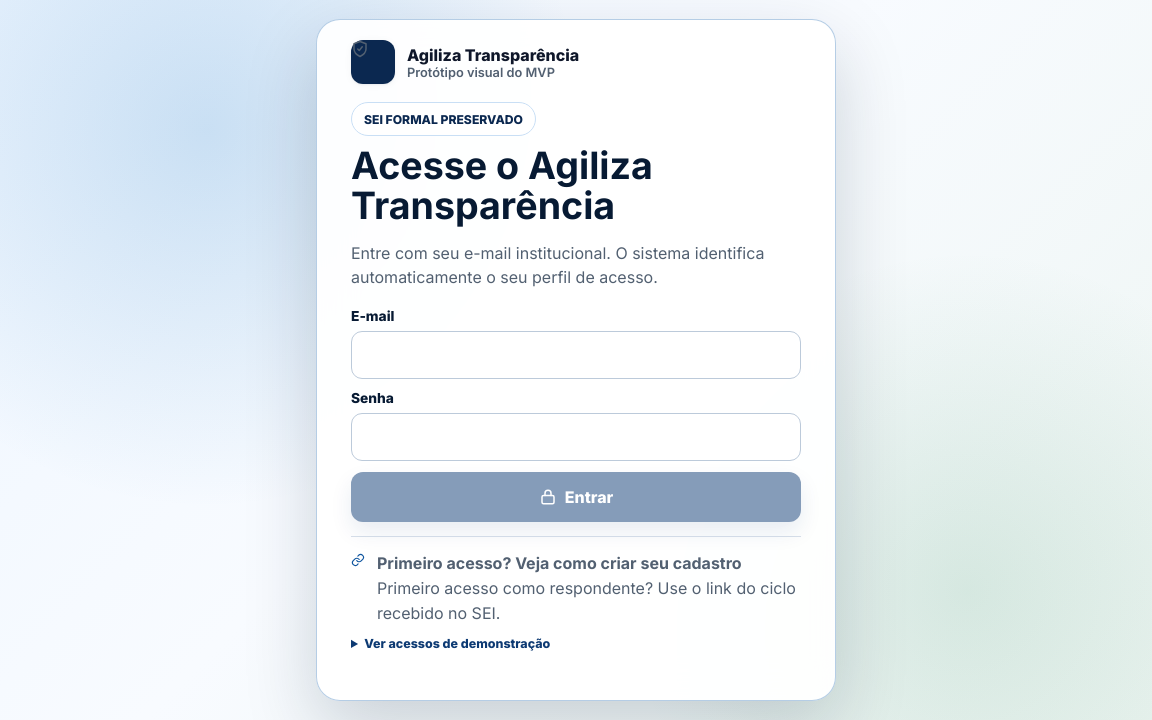
Test: Agiliza Transparência › analista recebe somente Criar Ciclo e Acompanhar ciclos na home
Type "analista@stc.ma.gov.br" into the field labelled "E-mail" at [576, 355], box [351,331,801,379]
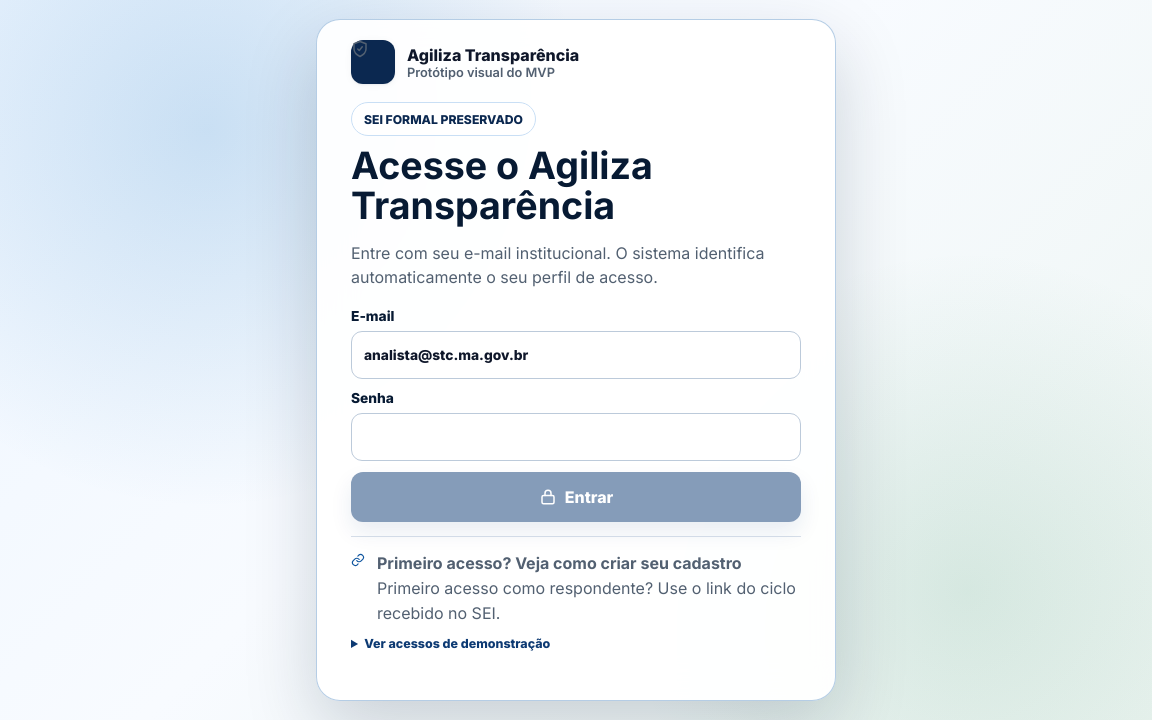
Type "senha-simulada" into the password field labelled "Senha" at [576, 437], box [351,413,801,461]
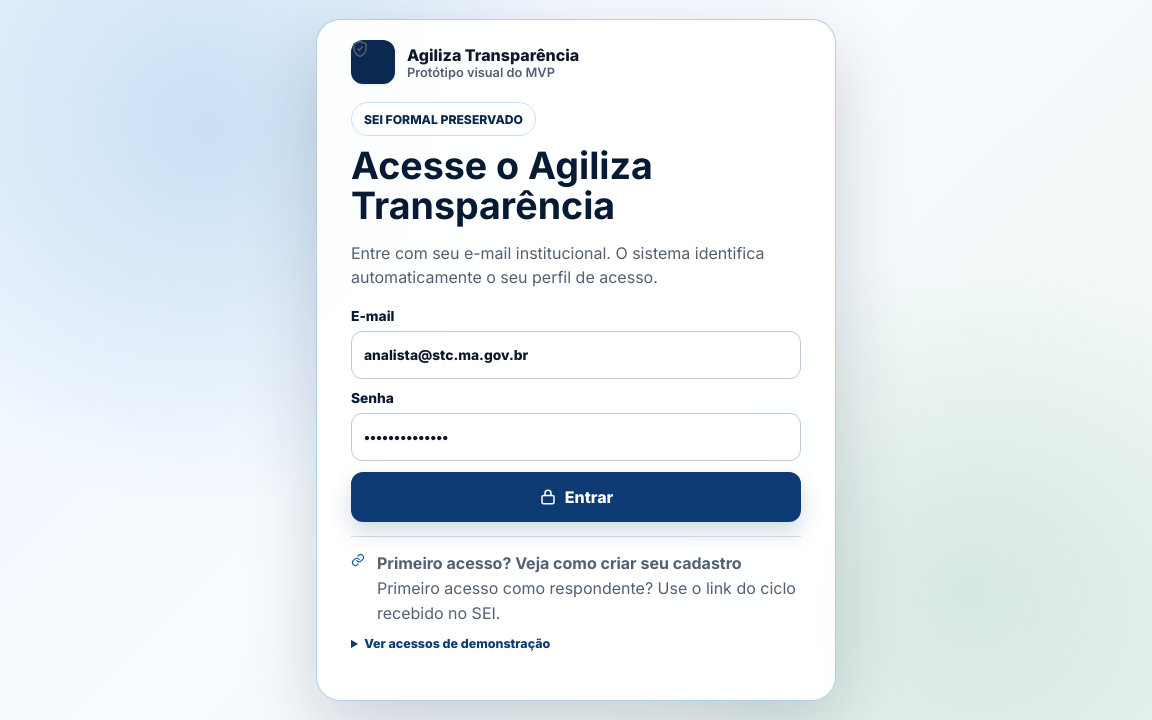
Click the button "Entrar" at [576, 497], box [351,472,801,522]
(page scrolled)
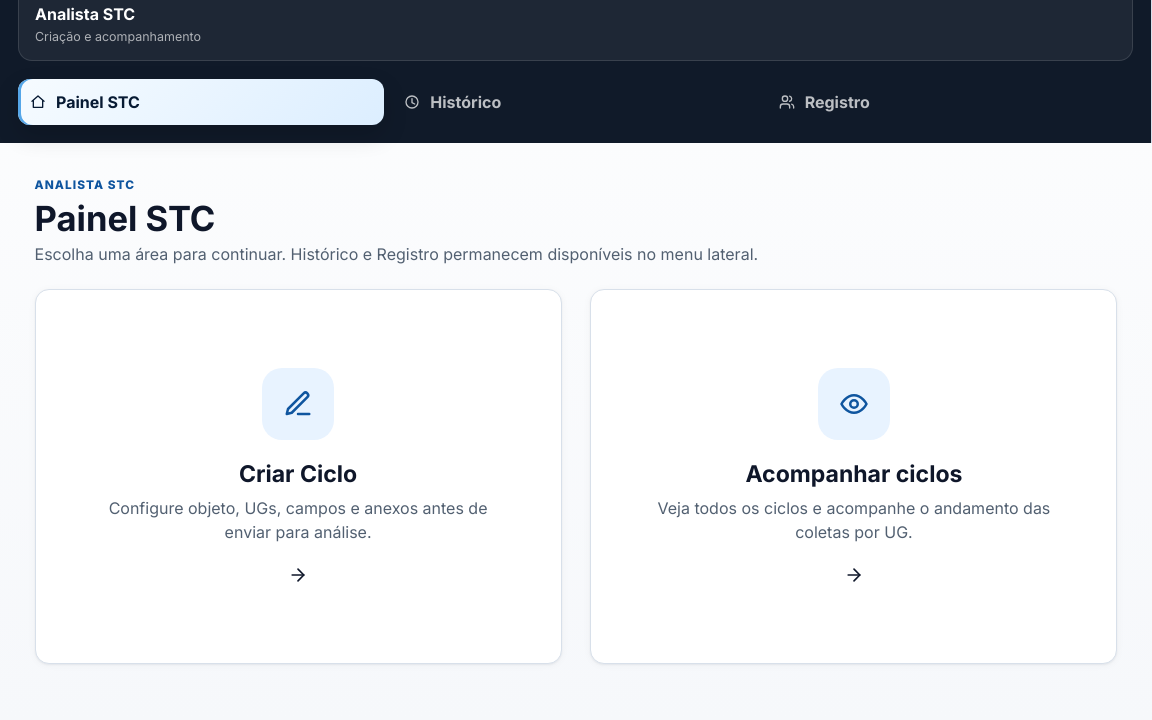
Now the heading "Painel STC" is shown, box [34,198,215,239]
Now the button "Criar Ciclo" is shown, box [34,289,562,664]
Now the button "Acompanhar ciclos" is shown, box [590,289,1118,664]
